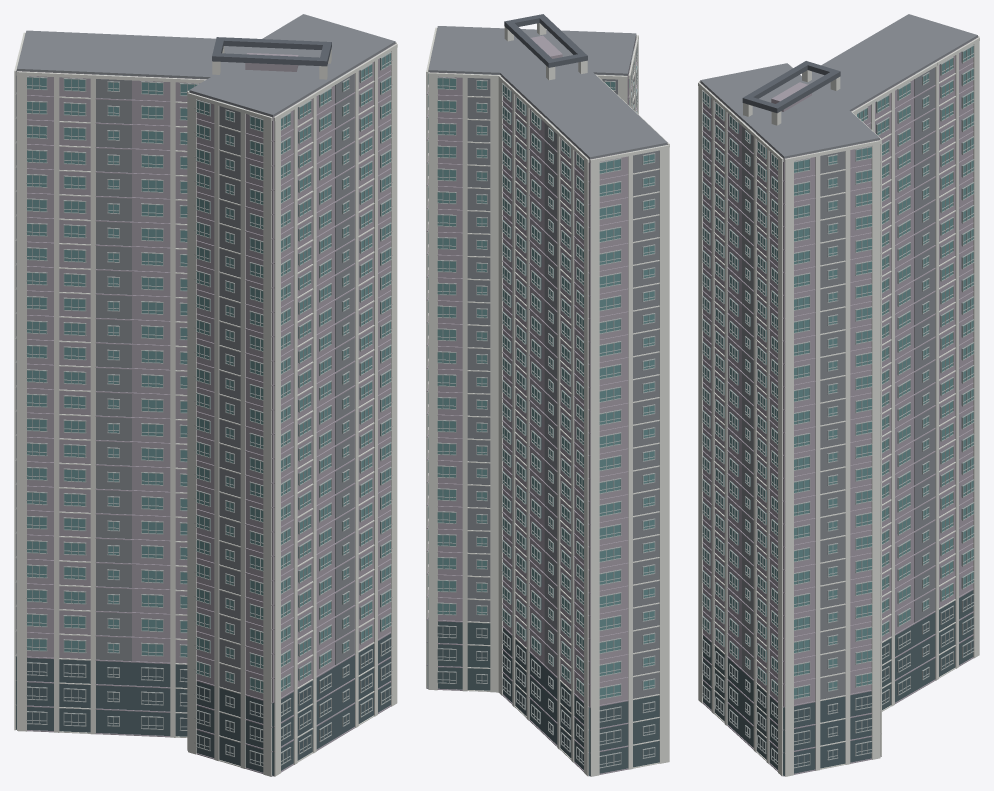
The model's file is bespoke-shinbanpo-xi-103.glb.
3 views of the same model, side by side, from view 1: azimuth 30°, elevation 25°; view 2: azimuth 150°, elevation 25°; view 3: azimuth 270°, elevation 25° (orthographic). The views are drawn at different scales.
Parts seen in each view (by area): view 1: SBX103_editable_SBX103_lavender_grey_metallic_panels, SBX103_editable_SBX103_white_vertical_frame, SBX103_editable_SBX103_grey_inset_service_walls, SBX103_editable_SBX103_pale_teal_glazing, SBX103_editable_SBX103_thin_grey_window_mullions, SBX103_editable_SBX103_dark_glazed_base, SBX103_editable_SBX103_broad_charcoal_roof_caps; view 2: SBX103_editable_SBX103_white_vertical_frame, SBX103_editable_SBX103_grey_inset_service_walls, SBX103_editable_SBX103_lavender_grey_metallic_panels, SBX103_editable_SBX103_pale_teal_glazing, SBX103_editable_SBX103_thin_grey_window_mullions, SBX103_editable_SBX103_dark_glazed_base, SBX103_editable_SBX103_broad_charcoal_roof_caps; view 3: SBX103_editable_SBX103_lavender_grey_metallic_panels, SBX103_editable_SBX103_white_vertical_frame, SBX103_editable_SBX103_grey_inset_service_walls, SBX103_editable_SBX103_thin_grey_window_mullions, SBX103_editable_SBX103_pale_teal_glazing, SBX103_editable_SBX103_dark_glazed_base, SBX103_editable_SBX103_broad_charcoal_roof_caps.
Part boxes in pixels (box(x1,y1,x2,y2)): SBX103_editable_SBX103_lavender_grey_metallic_panels: box(17, 43, 395, 776); SBX103_editable_SBX103_white_vertical_frame: box(14, 32, 397, 776); SBX103_editable_SBX103_grey_inset_service_walls: box(16, 14, 395, 692); SBX103_editable_SBX103_pale_teal_glazing: box(27, 53, 390, 692); SBX103_editable_SBX103_thin_grey_window_mullions: box(26, 52, 392, 766); SBX103_editable_SBX103_dark_glazed_base: box(16, 633, 390, 776); SBX103_editable_SBX103_broad_charcoal_roof_caps: box(212, 37, 331, 66); SBX103_editable_SBX103_white_vertical_frame: box(426, 23, 669, 776); SBX103_editable_SBX103_grey_inset_service_walls: box(428, 26, 667, 698); SBX103_editable_SBX103_lavender_grey_metallic_panels: box(426, 35, 667, 776); SBX103_editable_SBX103_pale_teal_glazing: box(428, 66, 654, 698); SBX103_editable_SBX103_thin_grey_window_mullions: box(427, 45, 655, 768); SBX103_editable_SBX103_dark_glazed_base: box(427, 619, 659, 776); SBX103_editable_SBX103_broad_charcoal_roof_caps: box(504, 14, 587, 67); SBX103_editable_SBX103_lavender_grey_metallic_panels: box(700, 37, 977, 776); SBX103_editable_SBX103_white_vertical_frame: box(698, 36, 979, 776); SBX103_editable_SBX103_grey_inset_service_walls: box(700, 14, 977, 699); SBX103_editable_SBX103_thin_grey_window_mullions: box(702, 45, 974, 768); SBX103_editable_SBX103_pale_teal_glazing: box(702, 46, 973, 698); SBX103_editable_SBX103_dark_glazed_base: box(702, 590, 973, 776); SBX103_editable_SBX103_broad_charcoal_roof_caps: box(742, 61, 840, 113).
Bounding box in the file's own units: 38.59 × 79.2 × 31.77.
